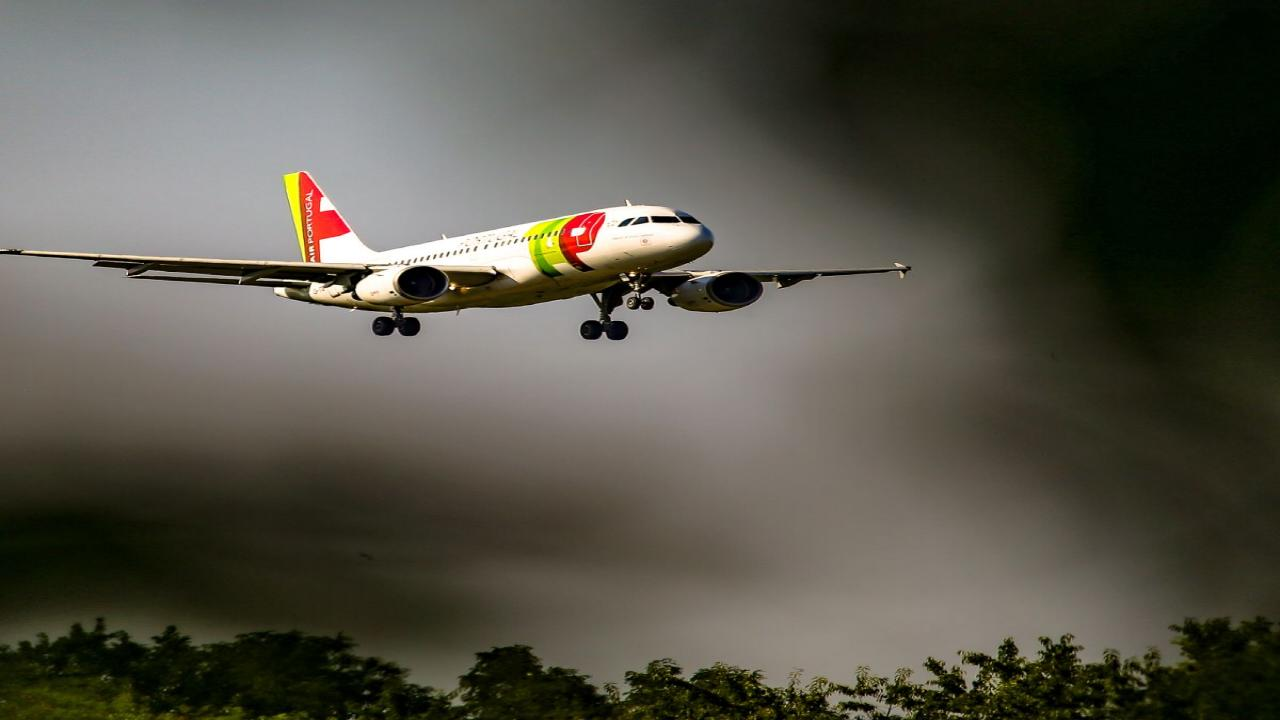Airplane: (0, 159, 939, 355)
